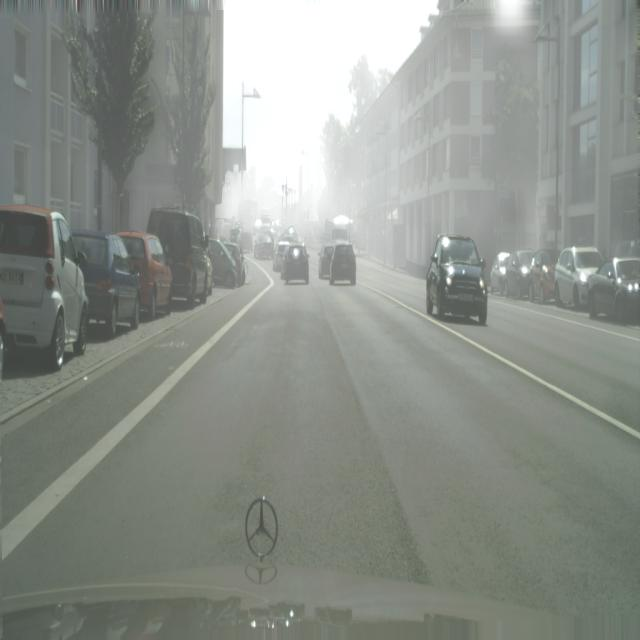car: (319, 214, 356, 280)
person: (0, 205, 89, 370), (72, 230, 141, 340), (146, 208, 213, 308), (425, 234, 488, 326), (117, 231, 173, 321), (587, 256, 640, 323), (554, 246, 604, 311), (528, 249, 557, 303), (504, 249, 533, 299), (208, 238, 237, 288), (281, 241, 310, 285), (329, 242, 357, 286), (489, 251, 511, 295), (226, 241, 247, 286), (253, 230, 274, 260), (273, 239, 291, 272), (238, 228, 253, 254)
